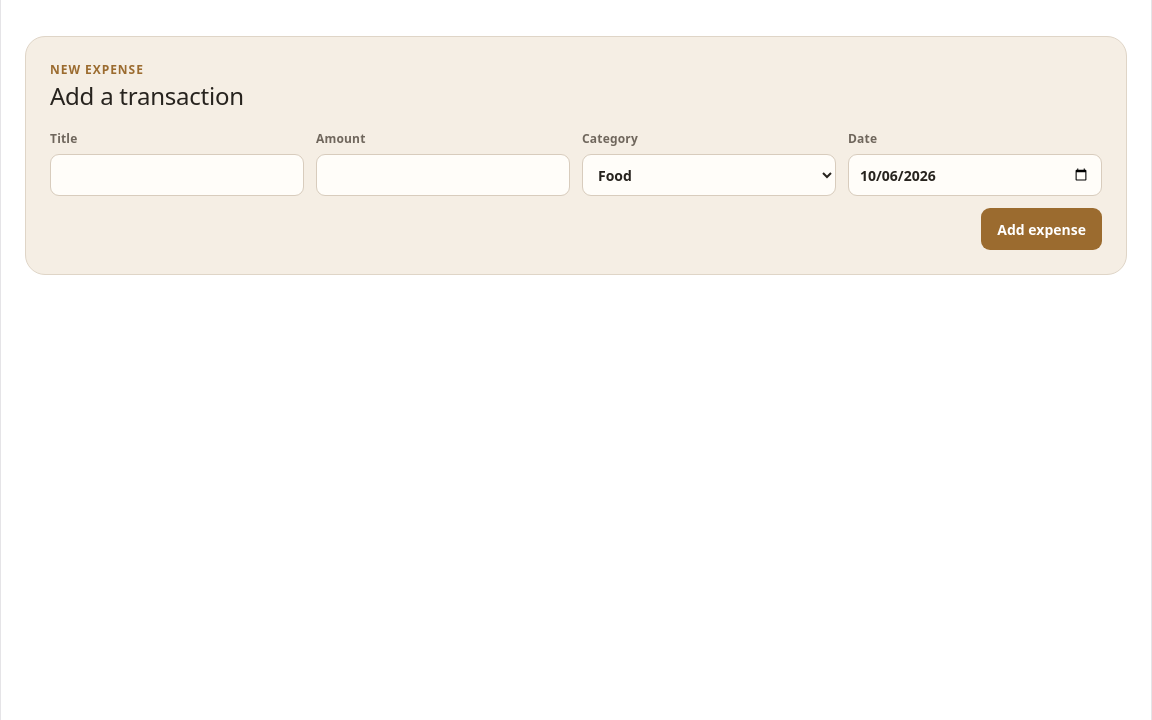
ExpenseForm › shows an error when the save operation fails
Step 1. Type "Lunch" into the field labelled "Title" → (177, 175), box [50, 154, 304, 196]
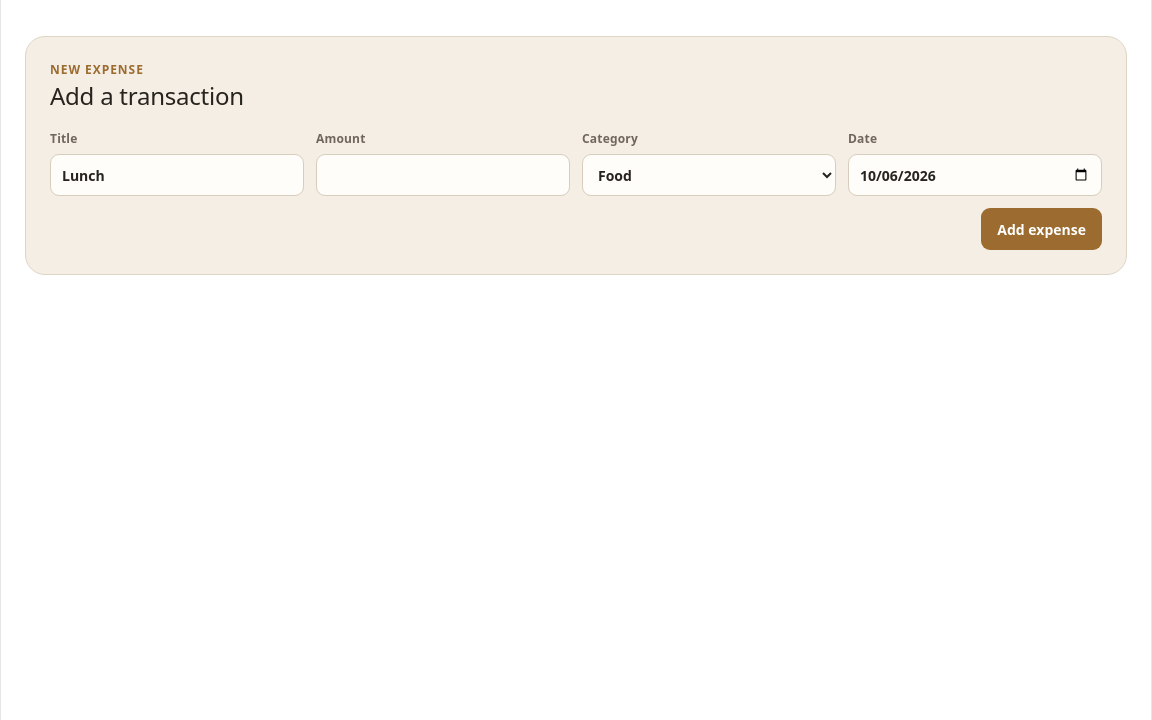
Step 2. Type "20" into the number field labelled "Amount" → (443, 175), box [316, 154, 570, 196]
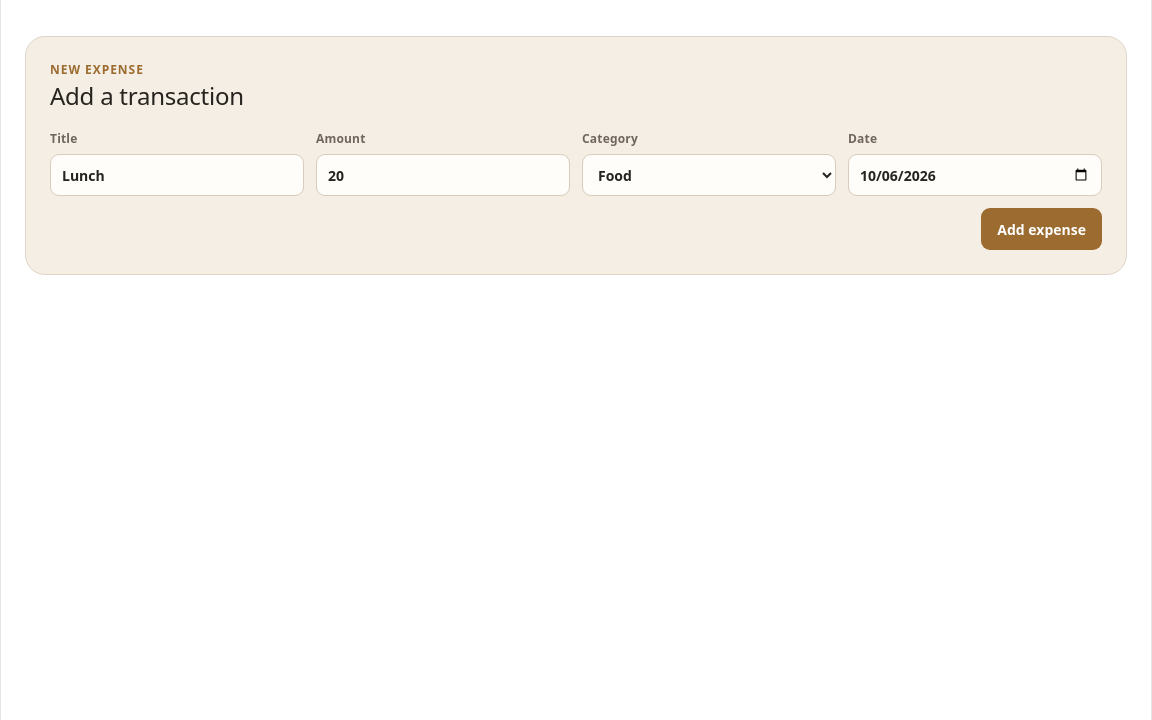
Step 3. Click the button "Add expense" → click(1042, 229), box [981, 208, 1102, 250]
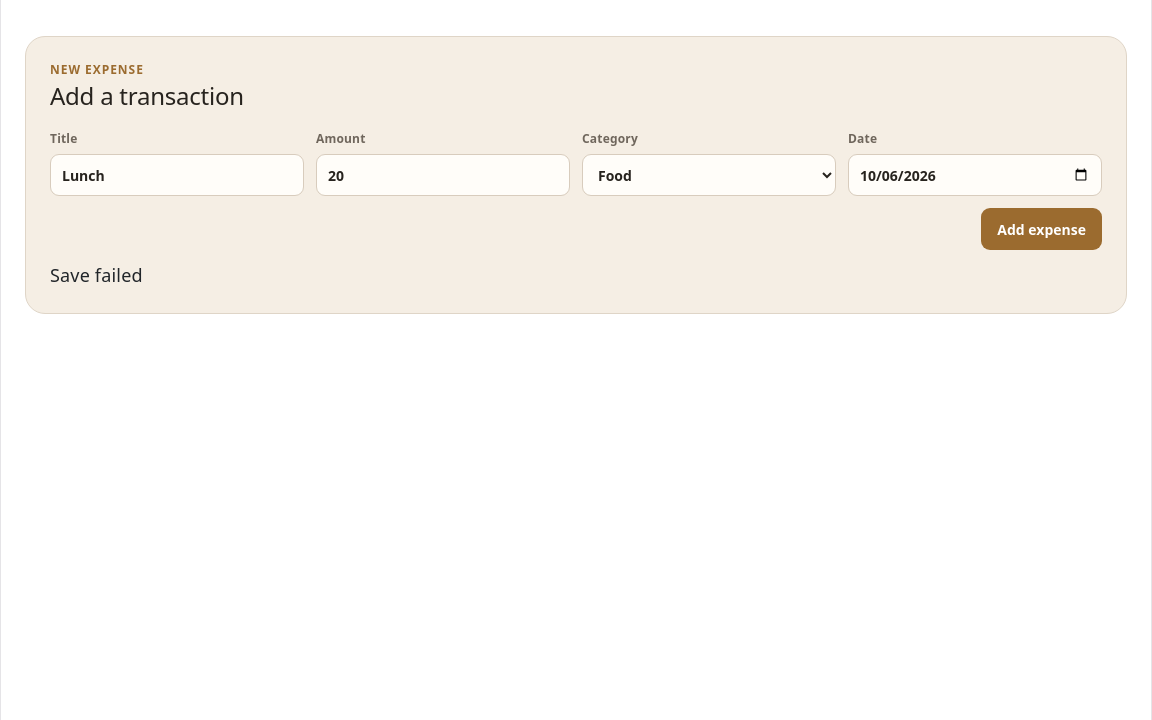
Expected: the message reads "Save failed", [50, 263, 143, 287]
